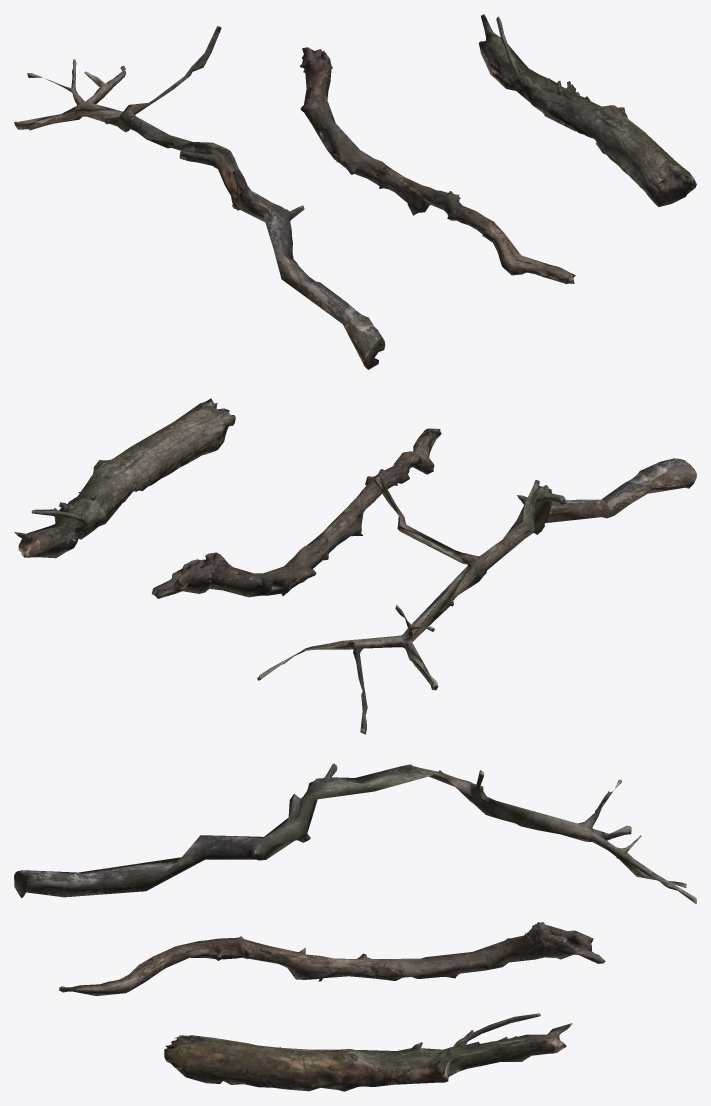
The model's file is dry_branches_medium_01_1k_lo.glb.
The picture shows the model from 3 angles, top to bottom: view 1: azimuth 30°, elevation 25°; view 2: azimuth 150°, elevation 25°; view 3: azimuth 270°, elevation 25°; orthographic projection. The views are drawn at different scales.
Parts seen in each view (by area): view 1: dry_branches_medium_01_a, dry_branches_medium_01_c, dry_branches_medium_01_b; view 2: dry_branches_medium_01_a, dry_branches_medium_01_c, dry_branches_medium_01_b; view 3: dry_branches_medium_01_a, dry_branches_medium_01_c, dry_branches_medium_01_b.
Part boxes in pixels (x1,y1,x2,y2): dry_branches_medium_01_a: (14,26,385,369); dry_branches_medium_01_c: (479,14,696,207); dry_branches_medium_01_b: (300,47,575,283); dry_branches_medium_01_a: (257,458,696,734); dry_branches_medium_01_c: (14,398,235,558); dry_branches_medium_01_b: (151,428,441,598); dry_branches_medium_01_a: (14,763,696,903); dry_branches_medium_01_c: (164,1013,572,1091); dry_branches_medium_01_b: (59,922,605,995).
Bounding box in the file's own units: 1.06 × 0.3401 × 1.3.
1 material, 1 textured.
